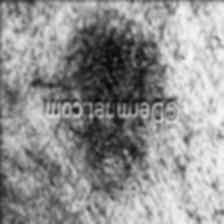Potentially Malignant Skin Tumors: (58, 40, 160, 94), (78, 120, 156, 160)
